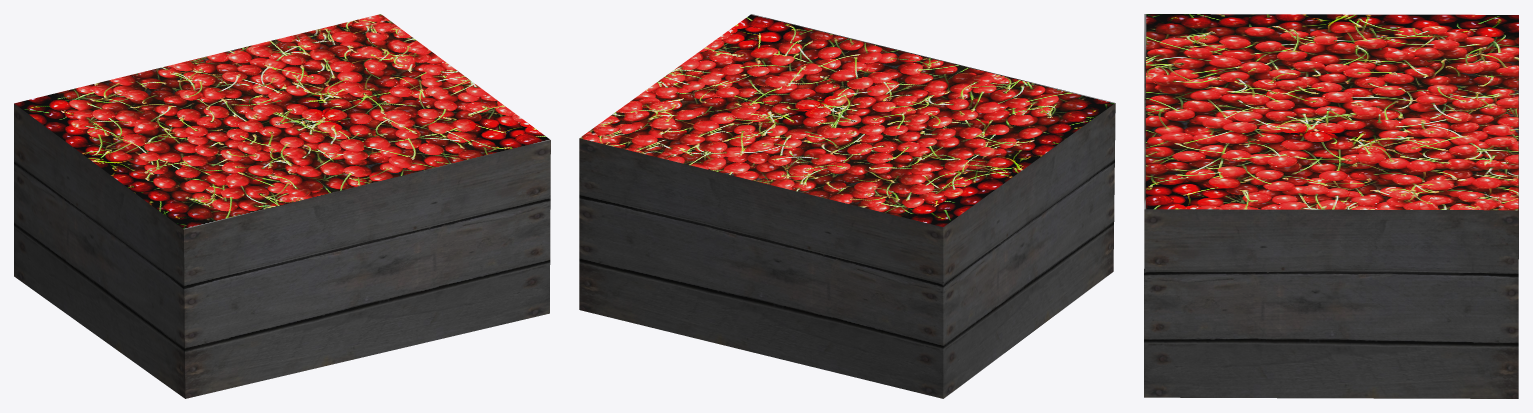
File: fruitbox02_LOD03.fbx
3 views of the same model, side by side, from view 1: azimuth 30°, elevation 25°; view 2: azimuth 150°, elevation 25°; view 3: azimuth 270°, elevation 25° (orthographic). The views are drawn at different scales.
Visible parts, largest first — view 1: Mesh Object; view 2: Mesh Object; view 3: Mesh Object.
Part boxes in pixels (x1,y1,x2,y2): Mesh Object: (14, 14, 550, 398); Mesh Object: (579, 14, 1115, 398); Mesh Object: (1144, 14, 1518, 398).
Bounding box in the file's own units: 0.6278 × 0.2819 × 0.5067.
